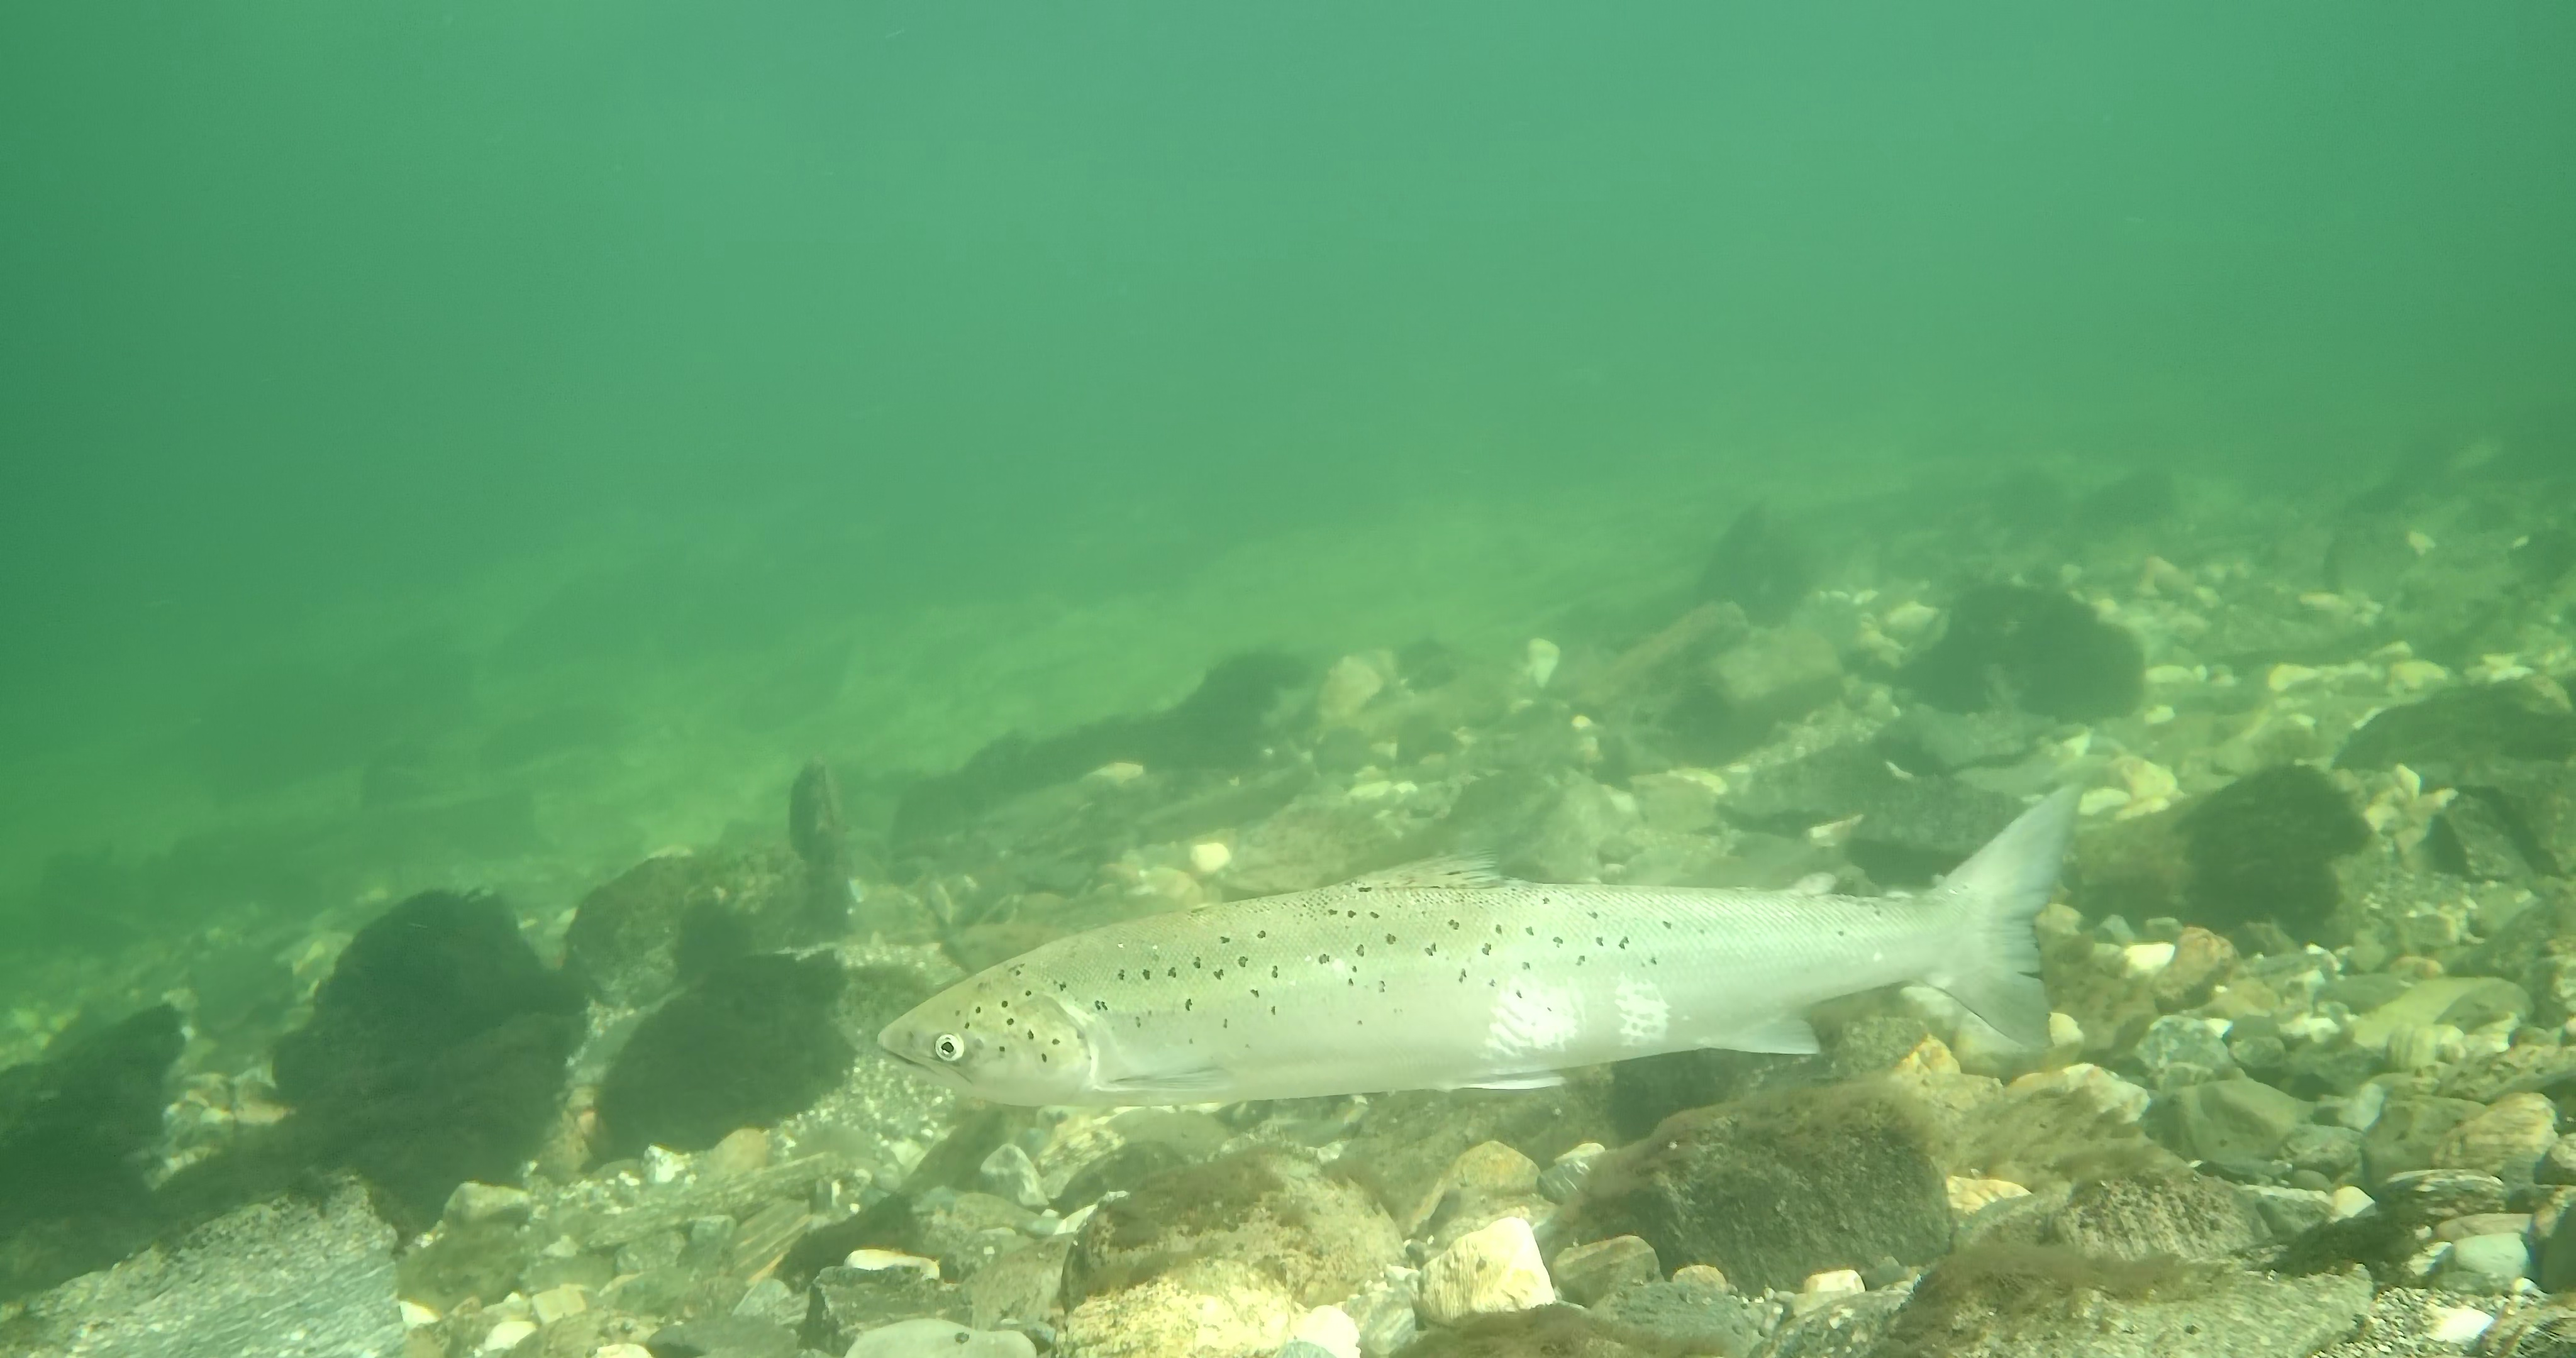salmon: (872, 779, 2084, 1111)
